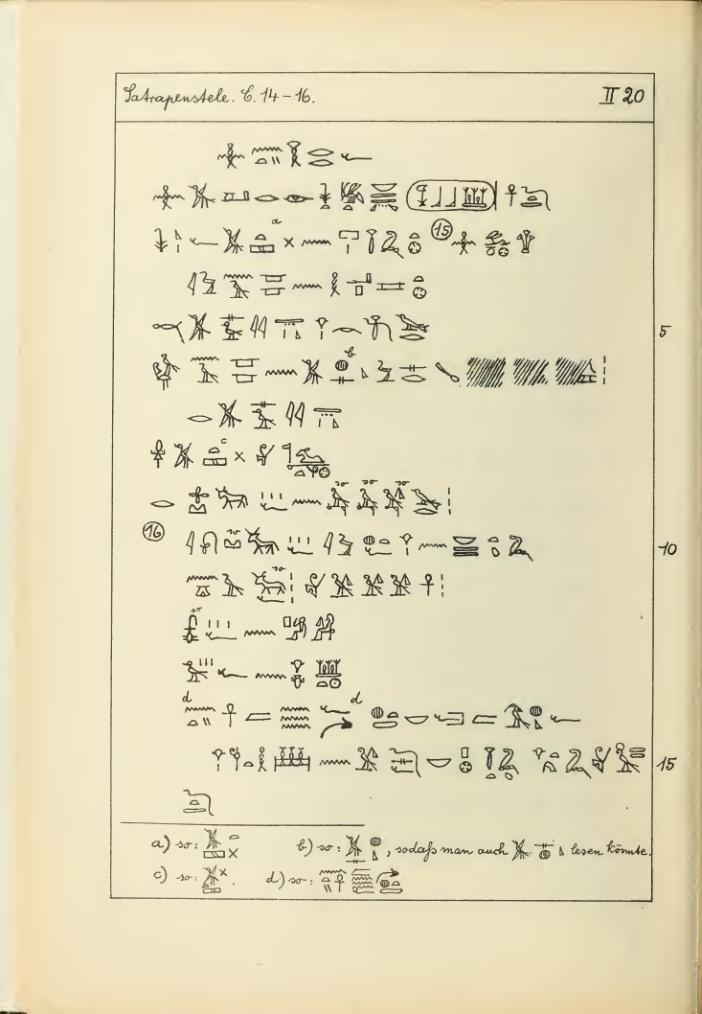circle: (398, 164, 515, 238)
